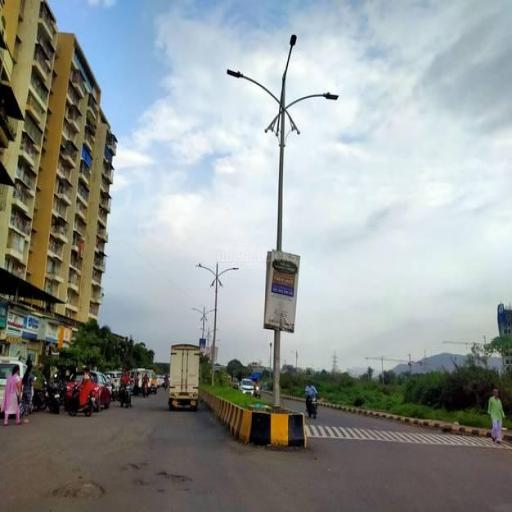building: (0, 3, 119, 366)
streetlight: (244, 29, 337, 409), (208, 252, 238, 377), (195, 306, 207, 367)
